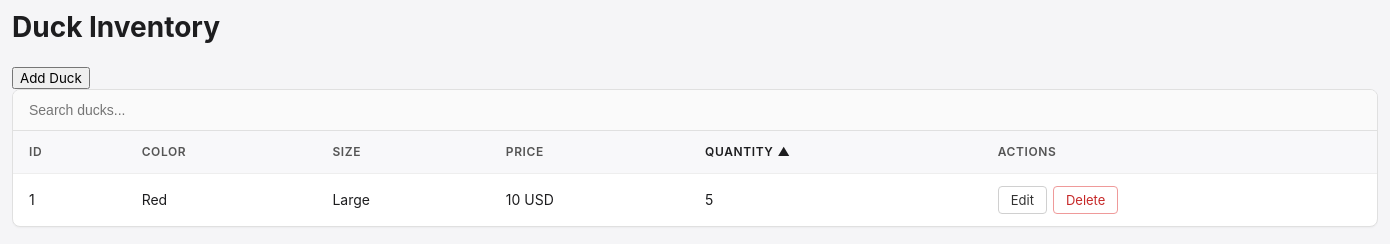
Test: Inventory page › should DELETE the duck after confirm and reload
Expected: the text "Red" is shown, [126,173,316,226]
Click the button "Delete": (1086, 200) [1053,186,1118,214]
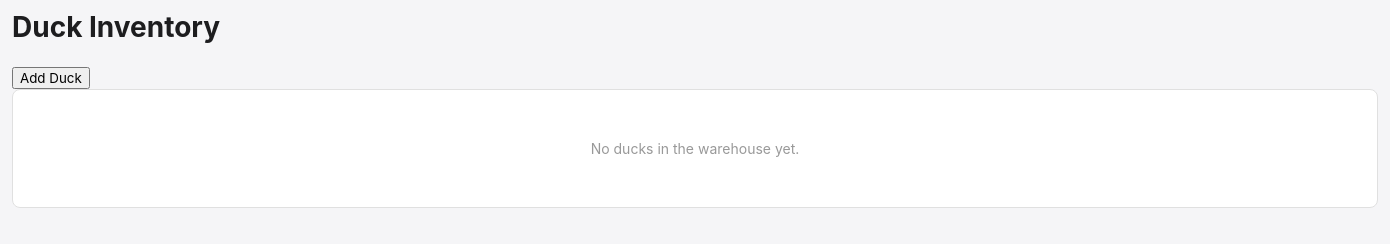
Expected: the text "Red" is gone
